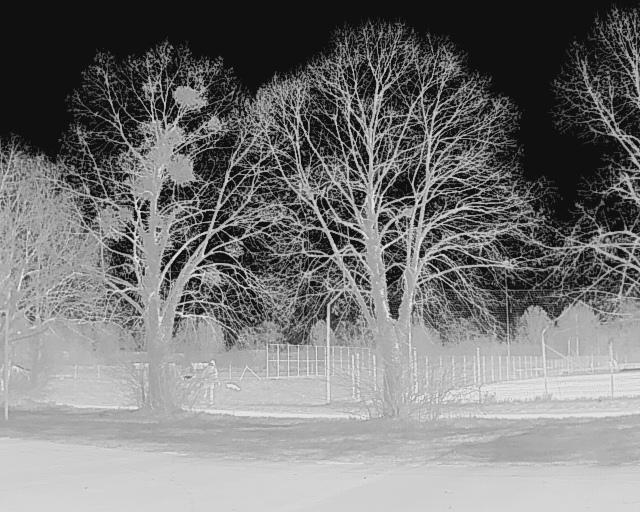drone: (294, 179, 333, 204)
